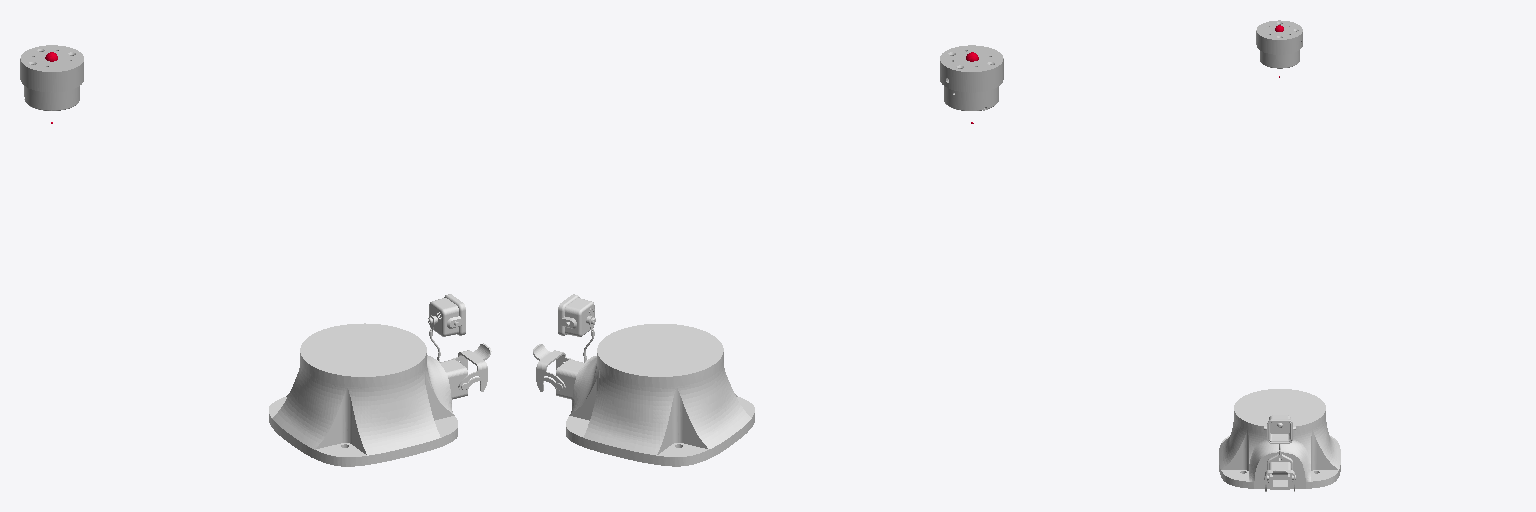
robot.urdf — mg400:
<?xml version="1.0" ?>
<robot name="mg400">
	<link name="world">
		<inertial>
			<origin rpy="0.00000 -0.00000 0.00000" xyz="0.00000 0.00000 0.00000"/>
			<mass value="0.00000"/>
			<inertia ixx="0.00000" ixy="0" ixz="0" iyy="0.00000" iyz="0" izz="0.00000"/>
		</inertial>
	</link>
	<link name="base_link">
		<inertial>
			<origin rpy="0.00000 -0.00000 0.00000" xyz="0.00060 -0.00000 0.05609"/>
			<mass value="3.62165"/>
			<inertia ixx="0.01587" ixy="0" ixz="0" iyy="0.01587" iyz="0" izz="0.02319"/>
		</inertial>
		<visual>
			<origin rpy="0.00000 -0.00000 0.00000" xyz="0.00000 0.00000 0.00000"/>
			<geometry>
				<mesh filename="../robot_arm_assets/mg400/meshes/base_link.STL" scale="1.00000 1.00000 1.00000"/>
			</geometry>
			<material name="mat_0">
				<color rgba="0.90000 0.90000 0.90000 1.00000" />
			</material>
		</visual>
		<collision>
			<origin rpy="0.00000 -0.00000 0.00000" xyz="0.00000 0.00000 0.00000"/>
			<geometry>
				<mesh filename="../robot_arm_assets/mg400/meshes/base_link.STL" scale="1.00000 1.00000 1.00000"/>
			</geometry>
		</collision>
	</link>
	<link name="link1">
		<inertial>
			<origin rpy="0.00000 -0.00000 0.00000" xyz="-0.00462 -0.00007 0.07099"/>
			<mass value="1.77056"/>
			<inertia ixx="0.00748" ixy="0" ixz="0" iyy="0.00775" iyz="0" izz="0.00787"/>
		</inertial>
		<visual>
			<origin rpy="0.00000 -0.00000 0.00000" xyz="0.00000 0.00000 0.00000"/>
			<geometry>
				<mesh filename="../robot_arm_assets/mg400/meshes/link1.STL" scale="1.00000 1.00000 1.00000"/>
			</geometry>
			<material name="mat_1">
				<color rgba="0.30000 0.30000 0.30000 1.00000" />
			</material>
		</visual>
		<collision>
			<origin rpy="0.00000 -0.00000 0.00000" xyz="0.00000 0.00000 0.00000"/>
			<geometry>
				<mesh filename="../robot_arm_assets/mg400/meshes/link1.STL" scale="1.00000 1.00000 1.00000"/>
			</geometry>
		</collision>
	</link>
	<link name="link2_1">
		<inertial>
			<origin rpy="0.00000 -0.00000 0.00000" xyz="-0.00322 0.03529 0.05961"/>
			<mass value="0.08661"/>
			<inertia ixx="0.00038" ixy="0" ixz="0" iyy="0.00035" iyz="0" izz="0.00006"/>
		</inertial>
		<visual>
			<origin rpy="0.00000 -0.00000 0.00000" xyz="0.00000 0.00000 0.00000"/>
			<geometry>
				<mesh filename="../robot_arm_assets/mg400/meshes/link2_1.STL" scale="1.00000 1.00000 1.00000"/>
			</geometry>
			<material name="mat_2">
				<color rgba="0.30000 0.30000 0.30000 1.00000" />
			</material>
		</visual>
		<collision>
			<origin rpy="0.00000 -0.00000 0.00000" xyz="0.00000 0.00000 0.00000"/>
			<geometry>
				<mesh filename="../robot_arm_assets/mg400/meshes/link2_1.STL" scale="1.00000 1.00000 1.00000"/>
			</geometry>
		</collision>
	</link>
	<link name="link3_1">
		<inertial>
			<origin rpy="0.00000 -0.00000 0.00000" xyz="0.08217 0.00011 -0.00334"/>
			<mass value="0.03752"/>
			<inertia ixx="0.00001" ixy="0" ixz="0" iyy="0.00018" iyz="0" izz="0.00018"/>
		</inertial>
		<visual>
			<origin rpy="0.00000 -0.00000 0.00000" xyz="0.00000 0.00000 0.00000"/>
			<geometry>
				<mesh filename="../robot_arm_assets/mg400/meshes/link3_1.STL" scale="1.00000 1.00000 1.00000"/>
			</geometry>
			<material name="mat_3">
				<color rgba="0.30000 0.30000 0.30000 1.00000" />
			</material>
		</visual>
		<collision>
			<origin rpy="0.00000 -0.00000 0.00000" xyz="0.00000 0.00000 0.00000"/>
			<geometry>
				<mesh filename="../robot_arm_assets/mg400/meshes/link3_1.STL" scale="1.00000 1.00000 1.00000"/>
			</geometry>
		</collision>
	</link>
	<link name="link4_1">
		<inertial>
			<origin rpy="0.00000 -0.00000 0.00000" xyz="0.03879 0.01708 -0.00246"/>
			<mass value="0.06290"/>
			<inertia ixx="0.00006" ixy="0" ixz="0" iyy="0.00010" iyz="0" izz="0.00007"/>
		</inertial>
		<visual>
			<origin rpy="0.00000 -0.00000 0.00000" xyz="0.00000 0.00000 0.00000"/>
			<geometry>
				<mesh filename="../robot_arm_assets/mg400/meshes/link4_1.STL" scale="1.00000 1.00000 1.00000"/>
			</geometry>
			<material name="mat_4">
				<color rgba="0.90000 0.90000 0.90000 1.00000" />
			</material>
		</visual>
		<collision>
			<origin rpy="0.00000 -0.00000 0.00000" xyz="0.00000 0.00000 0.00000"/>
			<geometry>
				<mesh filename="../robot_arm_assets/mg400/meshes/link4_1.STL" scale="1.00000 1.00000 1.00000"/>
			</geometry>
		</collision>
	</link>
	<link name="link5">
		<inertial>
			<origin rpy="0.00000 -0.00000 0.00000" xyz="0.00000 0.00000 -0.03497"/>
			<mass value="0.09653"/>
			<inertia ixx="0.00008" ixy="0" ixz="0" iyy="0.00008" iyz="0" izz="0.00003"/>
		</inertial>
		<visual>
			<origin rpy="0.00000 -0.00000 0.00000" xyz="0.00000 0.00000 0.00000"/>
			<geometry>
				<mesh filename="../robot_arm_assets/mg400/meshes/link5.STL" scale="1.00000 1.00000 1.00000"/>
			</geometry>
			<material name="mat_5">
				<color rgba="0.90000 0.90000 0.90000 1.00000" />
			</material>
		</visual>
		<collision>
			<origin rpy="0.00000 -0.00000 0.00000" xyz="0.00000 0.00000 0.00000"/>
			<geometry>
				<mesh filename="../robot_arm_assets/mg400/meshes/link5.STL" scale="1.00000 1.00000 1.00000"/>
			</geometry>
		</collision>
	</link>
	<link name="ee_link">
		<inertial>
			<origin rpy="-3.14000 -0.00000 1.57000" xyz="0.00000 0.00000 0.00000"/>
			<mass value="0.00000"/>
			<inertia ixx="0.00000" ixy="0" ixz="0" iyy="0.00000" iyz="0" izz="0.00000"/>
		</inertial>
		<visual>
			<origin rpy="0.00000 -0.00000 0.00000" xyz="0.00000 0.00000 0.00000"/>
			<geometry>
				<sphere radius="0.00500"/>
			</geometry>
			<material name="mat_6">
				<color rgba="0.90000 0.00000 0.20000 1.00000" />
			</material>
		</visual>
		<collision>
			<origin rpy="0.00000 -0.00000 0.00000" xyz="0.00000 0.00000 0.00000"/>
			<geometry>
				<sphere radius="0.00100"/>
			</geometry>
		</collision>
	</link>
	<link name="link2_2">
		<inertial>
			<origin rpy="0.00000 -0.00000 0.00000" xyz="-0.02011 0.03050 0.07363"/>
			<mass value="0.06625"/>
			<inertia ixx="0.00025" ixy="0" ixz="0" iyy="0.00024" iyz="0" izz="0.00004"/>
		</inertial>
		<visual>
			<origin rpy="0.00000 -0.00000 0.00000" xyz="0.00000 0.00000 0.00000"/>
			<geometry>
				<mesh filename="../robot_arm_assets/mg400/meshes/link2_2.STL" scale="1.00000 1.00000 1.00000"/>
			</geometry>
			<material name="mat_7">
				<color rgba="0.90000 0.90000 0.90000 1.00000" />
			</material>
		</visual>
		<collision>
			<origin rpy="0.00000 -0.00000 0.00000" xyz="0.00000 0.00000 0.00000"/>
			<geometry>
				<mesh filename="../robot_arm_assets/mg400/meshes/link2_2.STL" scale="1.00000 1.00000 1.00000"/>
			</geometry>
		</collision>
	</link>
	<link name="link3_2">
		<inertial>
			<origin rpy="0.00000 -0.00000 0.00000" xyz="0.03386 0.02402 0.00452"/>
			<mass value="0.03667"/>
			<inertia ixx="0.00002" ixy="0" ixz="0" iyy="0.00004" iyz="0" izz="0.00004"/>
		</inertial>
		<visual>
			<origin rpy="0.00000 -0.00000 0.00000" xyz="0.00000 0.00000 0.00000"/>
			<geometry>
				<mesh filename="../robot_arm_assets/mg400/meshes/link3_2.STL" scale="1.00000 1.00000 1.00000"/>
			</geometry>
			<material name="mat_8">
				<color rgba="0.30000 0.30000 0.30000 1.00000" />
			</material>
		</visual>
		<collision>
			<origin rpy="0.00000 -0.00000 0.00000" xyz="0.00000 0.00000 0.00000"/>
			<geometry>
				<mesh filename="../robot_arm_assets/mg400/meshes/link3_2.STL" scale="1.00000 1.00000 1.00000"/>
			</geometry>
		</collision>
	</link>
	<link name="link4_2">
		<inertial>
			<origin rpy="0.00000 -0.00000 0.00000" xyz="0.08764 0.02350 0.00831"/>
			<mass value="0.04536"/>
			<inertia ixx="0.00002" ixy="0" ixz="0" iyy="0.00016" iyz="0" izz="0.00016"/>
		</inertial>
		<visual>
			<origin rpy="0.00000 -0.00000 0.00000" xyz="0.00000 0.00000 0.00000"/>
			<geometry>
				<mesh filename="../robot_arm_assets/mg400/meshes/link4_2.STL" scale="1.00000 1.00000 1.00000"/>
			</geometry>
			<material name="mat_9">
				<color rgba="0.90000 0.90000 0.90000 1.00000" />
			</material>
		</visual>
		<collision>
			<origin rpy="0.00000 -0.00000 0.00000" xyz="0.00000 0.00000 0.00000"/>
			<geometry>
				<mesh filename="../robot_arm_assets/mg400/meshes/link4_2.STL" scale="1.00000 1.00000 1.00000"/>
			</geometry>
		</collision>
	</link>
	<link name="tactip_body_link">
		<inertial>
			<origin rpy="0.00000 -0.00000 0.00000" xyz="0.00000 0.00000 0.00000"/>
			<mass value="0.25000"/>
			<inertia ixx="0.00010" ixy="0" ixz="0" iyy="0.00010" iyz="0" izz="0.00013"/>
		</inertial>
		<visual>
			<origin rpy="0.00000 -0.00000 0.00000" xyz="0.00000 0.00000 0.00000"/>
			<geometry>
				<mesh filename="../sensor_assets/mini_tactip/body/minitip_body.obj" scale="1.00000 1.00000 1.00000"/>
			</geometry>
			<material name="mat_10">
				<color rgba="0.80000 0.80000 0.80000 1.00000" />
			</material>
		</visual>
		<collision>
			<origin rpy="0.00000 -0.00000 0.00000" xyz="0.00000 0.00000 0.00000"/>
			<geometry>
				<mesh filename="../sensor_assets/mini_tactip/body/minitip_body.obj" scale="1.00000 1.00000 1.00000"/>
			</geometry>
		</collision>
	</link>
	<link name="tactip_tip_link">
		<inertial>
			<origin rpy="0.00000 -0.00000 0.00000" xyz="0.00000 0.00000 0.00000"/>
			<mass value="0.01000"/>
			<inertia ixx="0.00000" ixy="0" ixz="0" iyy="0.00000" iyz="0" izz="0.00000"/>
		</inertial>
		<visual>
			<origin rpy="0.00000 -0.00000 0.00000" xyz="0.00000 0.00000 0.00000"/>
			<geometry>
				<mesh filename="../sensor_assets/mini_tactip/tip/skin.obj" scale="1.00000 1.00000 1.00000"/>
			</geometry>
			<material name="mat_11">
				<color rgba="0.00000 0.00000 0.00000 1.00000" />
			</material>
		</visual>
		<collision>
			<origin rpy="0.00000 -0.00000 0.00000" xyz="0.00000 0.00000 0.00000"/>
			<geometry>
				<mesh filename="../sensor_assets/mini_tactip/tip/core.obj" scale="1.00000 1.00000 1.00000"/>
			</geometry>
		</collision>
	</link>
	<link name="tcp_link">
		<inertial>
			<origin rpy="0.00000 -0.00000 1.57000" xyz="0.00000 0.00000 0.00000"/>
			<mass value="0.00000"/>
			<inertia ixx="0.00000" ixy="0" ixz="0" iyy="0.00000" iyz="0" izz="0.00000"/>
		</inertial>
		<visual>
			<origin rpy="0.00000 -0.00000 0.00000" xyz="0.00000 0.00000 0.00000"/>
			<geometry>
				<sphere radius="0.00100"/>
			</geometry>
			<material name="mat_12">
				<color rgba="0.90000 0.00000 0.20000 0.50000" />
			</material>
		</visual>
	</link>
	<joint name="world_joint" type="fixed">
		<parent link="world"/>
		<child link="base_link"/>
		<dynamics damping="1.0" friction="0.0001"/>
		<origin rpy="0.00000 -0.00000 -3.14000" xyz="0.00000 0.00000 0.00000"/>
		<axis xyz="0.00000 0.00000 0.00000"/>
	</joint>
	<joint name="j1" type="revolute">
		<parent link="base_link"/>
		<child link="link1"/>
		<limit effort="0.00000" lower="-3.14000" upper="3.14000" velocity="0.00000"/>
		<dynamics damping="1.0" friction="0.0001"/>
		<origin rpy="0.00000 -0.00000 0.00000" xyz="-0.00500 0.00000 0.10900"/>
		<axis xyz="0.00000 0.00000 1.00000"/>
	</joint>
	<joint name="j2_1" type="revolute">
		<parent link="link1"/>
		<child link="link2_1"/>
		<limit effort="0.00000" lower="-3.14000" upper="3.14000" velocity="0.00000"/>
		<dynamics damping="1.0" friction="0.0001"/>
		<origin rpy="0.00000 -0.00000 0.00000" xyz="0.04350 -0.03577 0.11900"/>
		<axis xyz="0.00000 1.00000 0.00000"/>
	</joint>
	<joint name="j3_1" type="revolute">
		<parent link="link2_1"/>
		<child link="link3_1"/>
		<limit effort="0.00000" lower="-3.14000" upper="3.14000" velocity="0.00000"/>
		<dynamics damping="1.0" friction="0.0001"/>
		<origin rpy="0.00000 -0.00000 0.00000" xyz="-0.00105 0.03577 0.17500"/>
		<axis xyz="0.00000 1.00000 0.00000"/>
	</joint>
	<joint name="j4_1" type="revolute">
		<parent link="link3_1"/>
		<child link="link4_1"/>
		<limit effort="0.00000" lower="-3.14000" upper="3.14000" velocity="0.00000"/>
		<dynamics damping="1.0" friction="0.0001"/>
		<origin rpy="0.00000 -0.00000 0.00000" xyz="0.17497 -0.01700 0.00325"/>
		<axis xyz="0.00000 1.00000 0.00000"/>
	</joint>
	<joint name="j5" type="revolute">
		<parent link="link4_1"/>
		<child link="link5"/>
		<limit effort="0.00000" lower="-3.14000" upper="3.14000" velocity="0.00000"/>
		<dynamics damping="1.0" friction="0.0001"/>
		<origin rpy="0.00000 -0.00000 0.00000" xyz="0.06600 0.01700 0.03100"/>
		<axis xyz="-0.00001 0.00000 1.00000"/>
	</joint>
	<joint name="ee_joint" type="fixed">
		<parent link="link5"/>
		<child link="ee_link"/>
		<dynamics damping="1.0" friction="0.0001"/>
		<origin rpy="0.00000 -0.00000 0.00000" xyz="0.00000 0.00000 -0.06500"/>
		<axis xyz="0.00000 0.00000 0.00000"/>
	</joint>
	<joint name="j2_2" type="revolute">
		<parent link="link1"/>
		<child link="link2_2"/>
		<limit effort="0.00000" lower="-3.14000" upper="3.14000" velocity="0.00000"/>
		<dynamics damping="1.0" friction="0.0001"/>
		<origin rpy="0.00000 -0.00000 0.00000" xyz="0.00453 -0.03050 0.14150"/>
		<axis xyz="0.00000 1.00000 0.00000"/>
	</joint>
	<joint name="j3_2" type="revolute">
		<parent link="link2_2"/>
		<child link="link3_2"/>
		<limit effort="0.00000" lower="-3.14000" upper="3.14000" velocity="0.00000"/>
		<dynamics damping="1.0" friction="0.0001"/>
		<origin rpy="0.00000 -0.00000 0.00000" xyz="-0.00105 0.00650 0.17500"/>
		<axis xyz="0.00000 1.00000 0.00000"/>
	</joint>
	<joint name="j4_2" type="revolute">
		<parent link="link3_2"/>
		<child link="link4_2"/>
		<limit effort="0.00000" lower="-3.14000" upper="3.14000" velocity="0.00000"/>
		<dynamics damping="1.0" friction="0.0001"/>
		<origin rpy="0.00000 -0.00000 0.00000" xyz="0.06790 0.00050 0.01197"/>
		<axis xyz="0.00000 1.00000 0.00000"/>
	</joint>
	<joint name="joint_dummy1" type="fixed">
		<parent link="ee_link"/>
		<child link="tactip_body_link"/>
		<dynamics damping="1.0" friction="0.0001"/>
		<origin rpy="-3.14159 0.00000 3.14159" xyz="0.00000 0.00000 0.00000"/>
		<axis xyz="0.00000 0.00000 1.00000"/>
	</joint>
	<joint name="tactip_tip_to_body" type="fixed">
		<parent link="tactip_body_link"/>
		<child link="tactip_tip_link"/>
		<dynamics damping="1.0" friction="0.0001"/>
		<origin rpy="1.57000 -0.00000 0.00000" xyz="0.00000 0.00000 0.03500"/>
		<axis xyz="0.00000 0.00000 0.00000"/>
	</joint>
	<joint name="tcp_joint" type="fixed">
		<parent link="tactip_body_link"/>
		<child link="tcp_link"/>
		<dynamics damping="1.0" friction="0.0001"/>
		<origin rpy="0.00000 -0.00000 0.00000" xyz="0.00000 0.00000 0.05500"/>
		<axis xyz="0.00000 0.00000 0.00000"/>
	</joint>
</robot>

--- What the picture shows (computed from the rendered views, not written in the file) ---
The picture shows the robot from 3 angles, left to right: view 1: azimuth 30°, elevation 25°; view 2: azimuth 150°, elevation 25°; view 3: azimuth 270°, elevation 25°; orthographic projection.
Robot: mg400 — 14 links, 13 joints (8 revolute, 5 fixed); root link world; default pose: all joints at 0.
Visible links, largest first — view 1: base_link, tactip_body_link; view 2: base_link, tactip_body_link; view 3: base_link, tactip_body_link.
Link boxes in pixels (x1,y1,x2,y2): base_link: (269,294,491,466); tactip_body_link: (20,45,83,110); base_link: (533,294,754,466); tactip_body_link: (940,45,1003,110); base_link: (1219,389,1340,491); tactip_body_link: (1256,20,1302,68).
Bounding box of the posed robot: 0.4128 × 0.13 × 0.3837 m (x, y, z).
Meshes: 11 distinct files referenced, 2 mesh visuals loaded (1 binary STL, 1 OBJ); not drawn: 9 (reference not matched to a file when rendering).